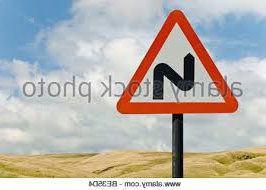Double_bend_right: (117, 10, 239, 113)
